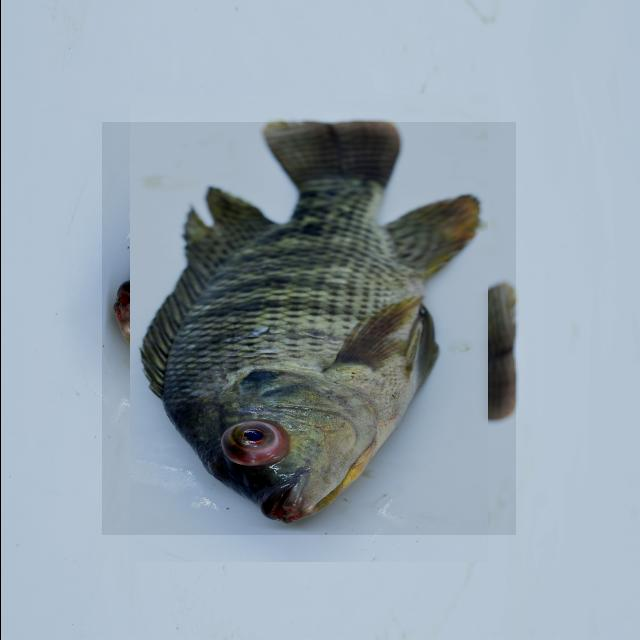Columnaris Disease: (101, 122, 515, 535)
